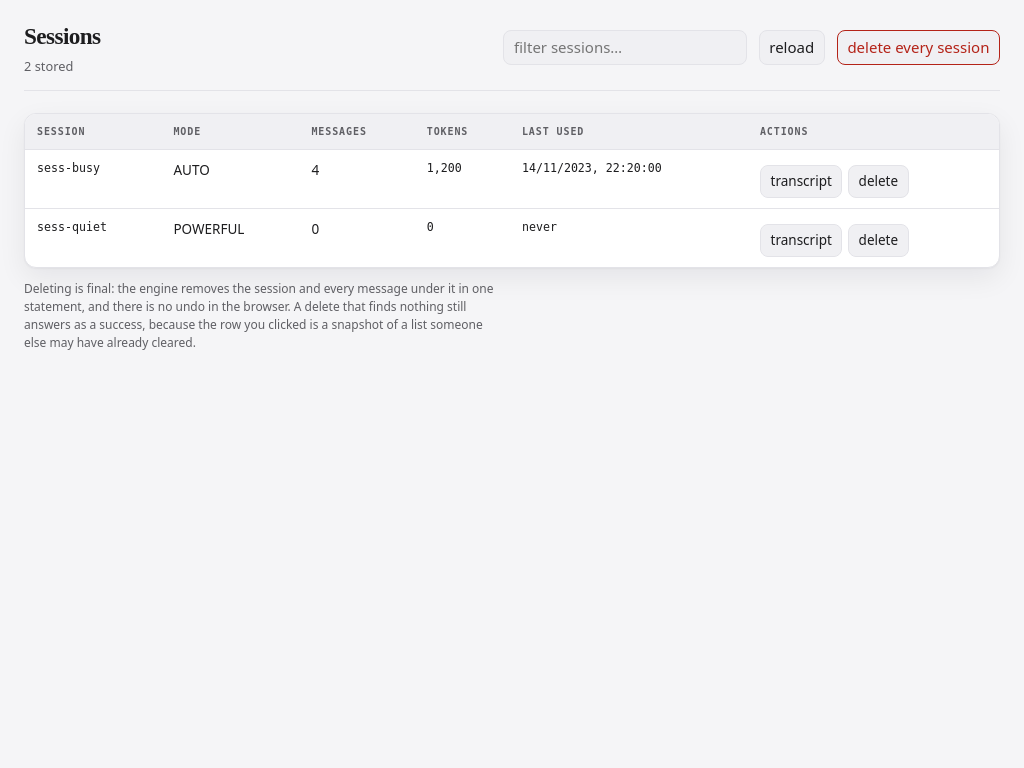
SessionsScreen › opens a transcript that shows the turn the engine stored
Click the button with aria-label "transcript sess-busy": (801, 181) 760,164 -> 842,198
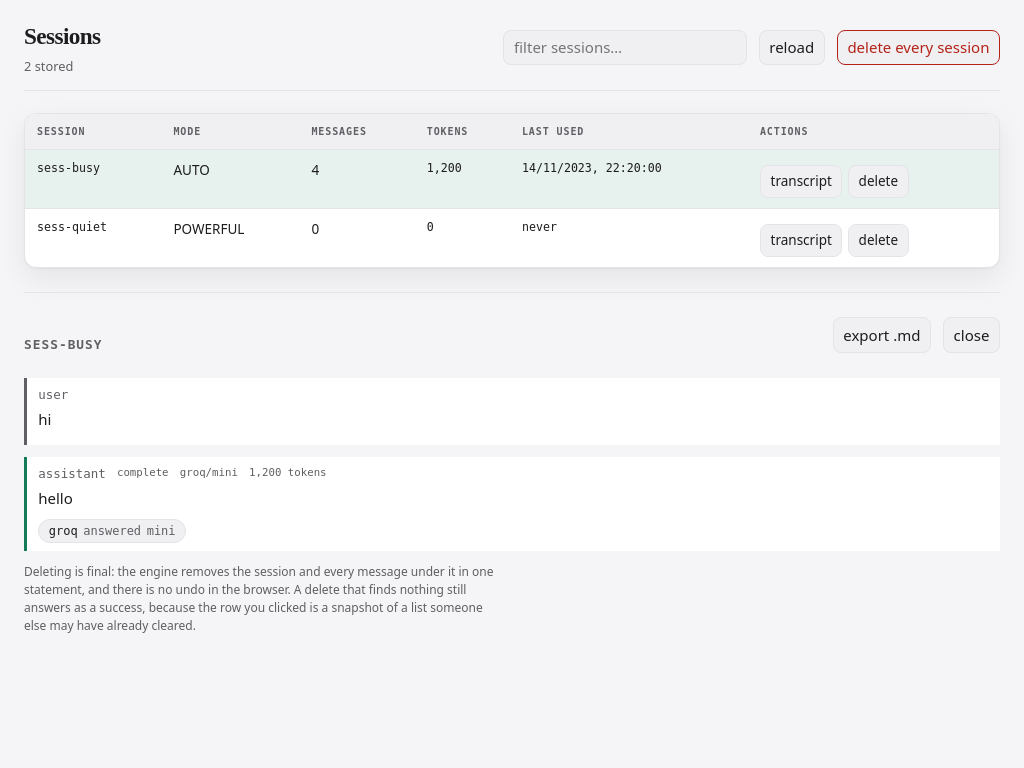
Check: the text "hi" is shown, box 38,409 -> 51,429
Check: the text "hello" is shown, box 38,488 -> 73,508
Check: the text "answered" is shown, box 83,522 -> 141,540
